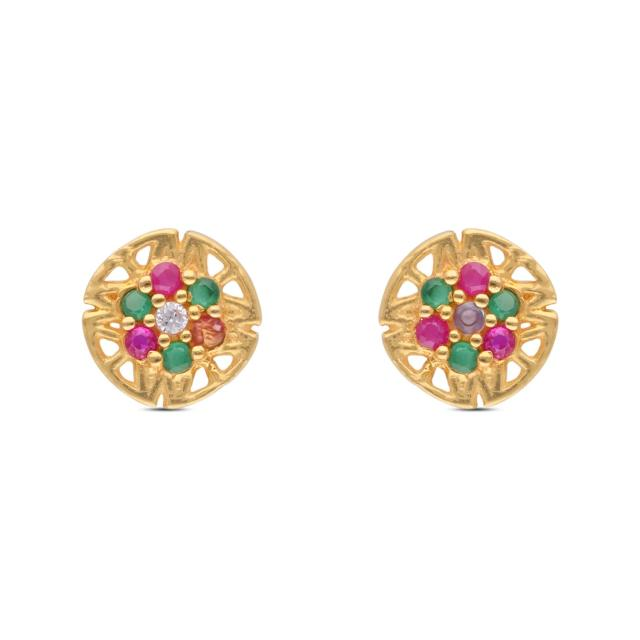missing gem: (193, 317, 224, 350), (455, 304, 485, 333)
